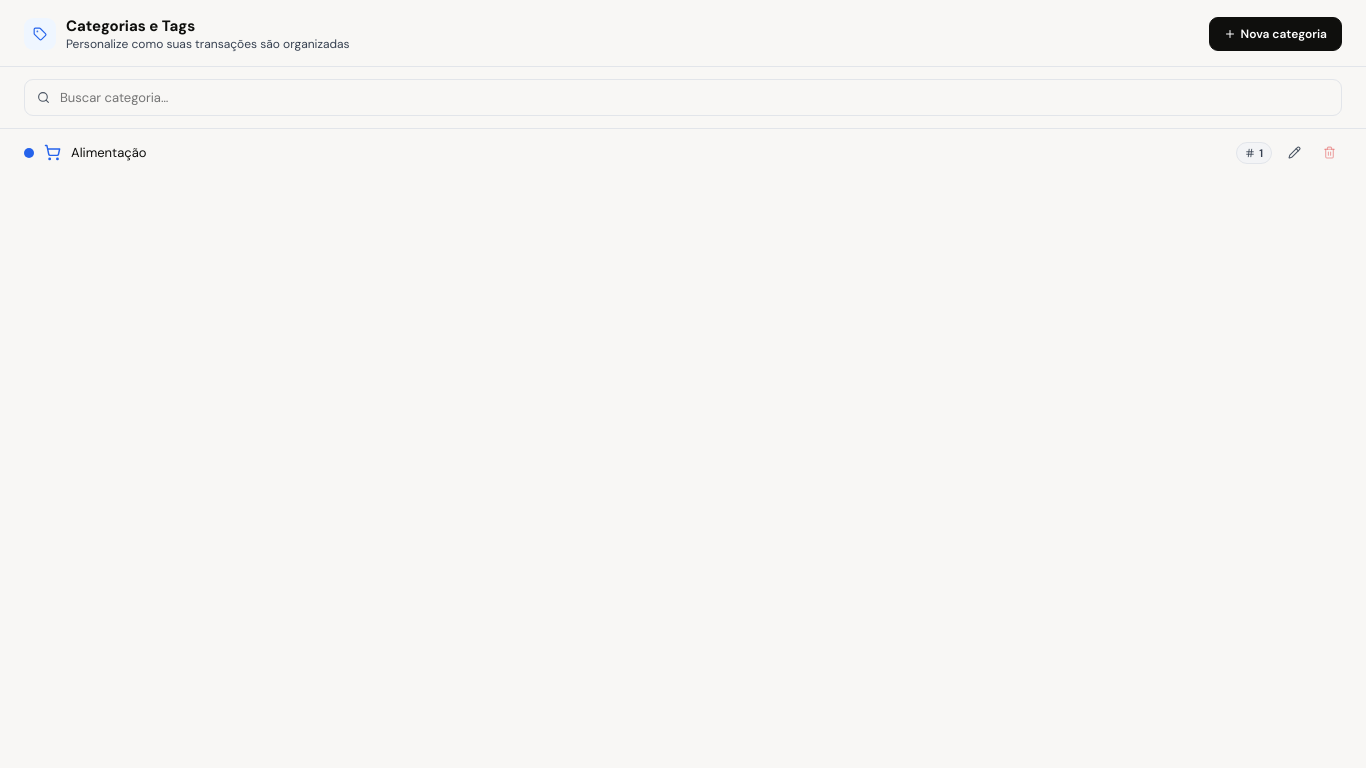
it: CategoriesTagsSettingsPanel — categoria/tag do seed em inglês (regressão #77) › o lápis pré-preenche o input de edição com o rótulo PT exibido, não o nome cru
Expected: the number of buttons named "Expandir tags de" is 1, [1236, 142, 1272, 164]
Click the button named "Editar categoria Alimentação".
click(1294, 152)  # box [1282, 140, 1307, 165]
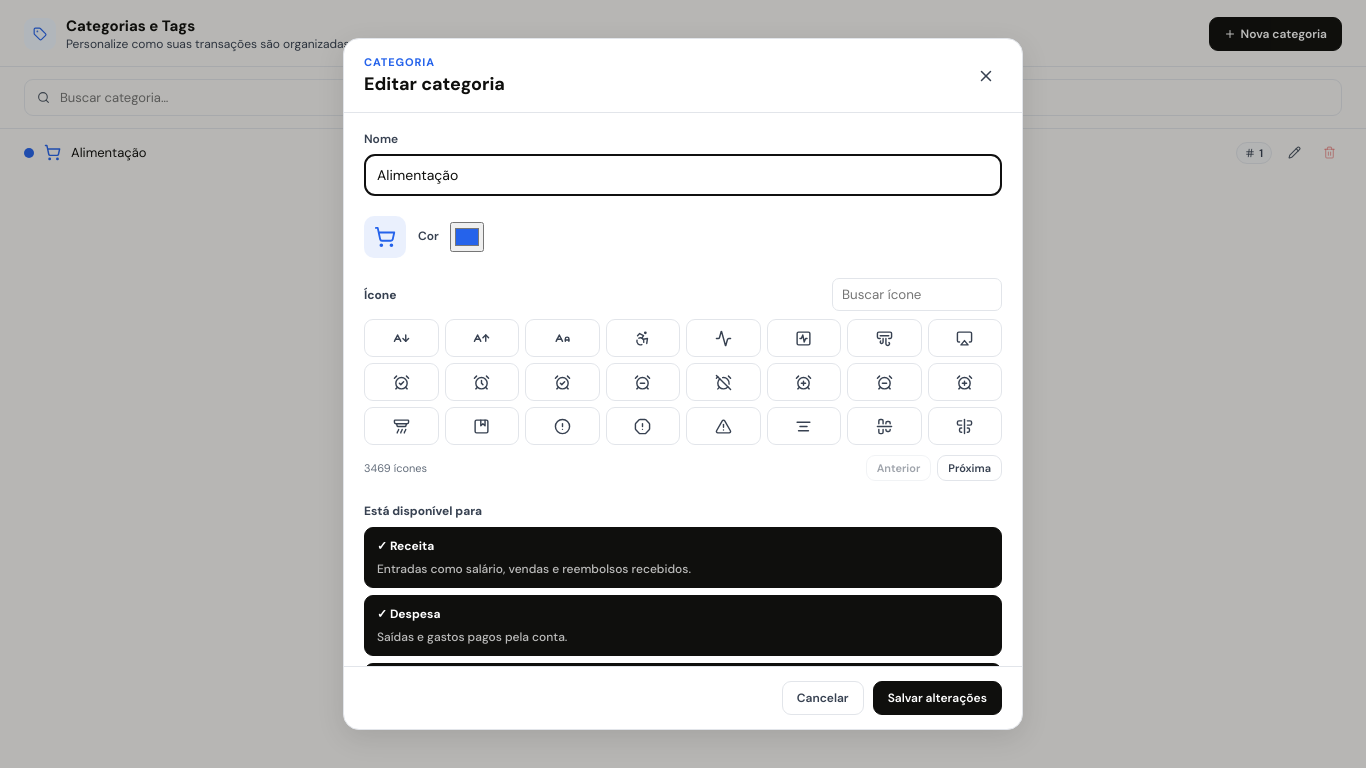
Result: the field named "Editar categoria Alimentação" holds "Alimentação" at [364, 154, 1002, 196]
